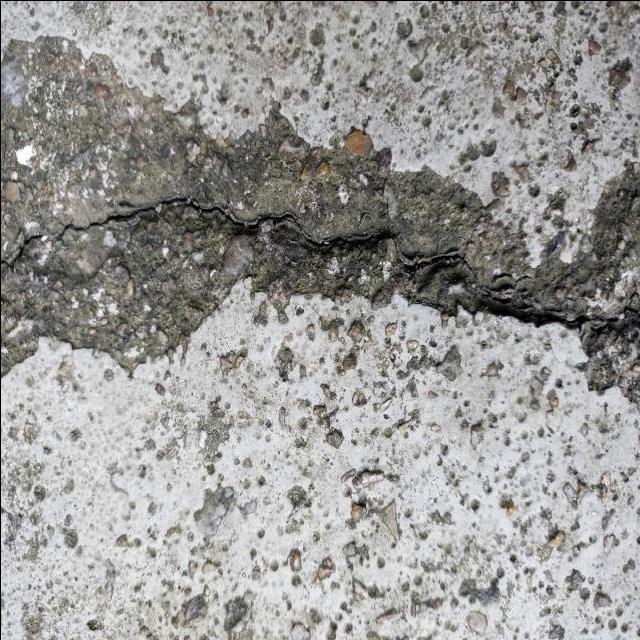SurfaceCrack: (1, 169, 640, 471)
